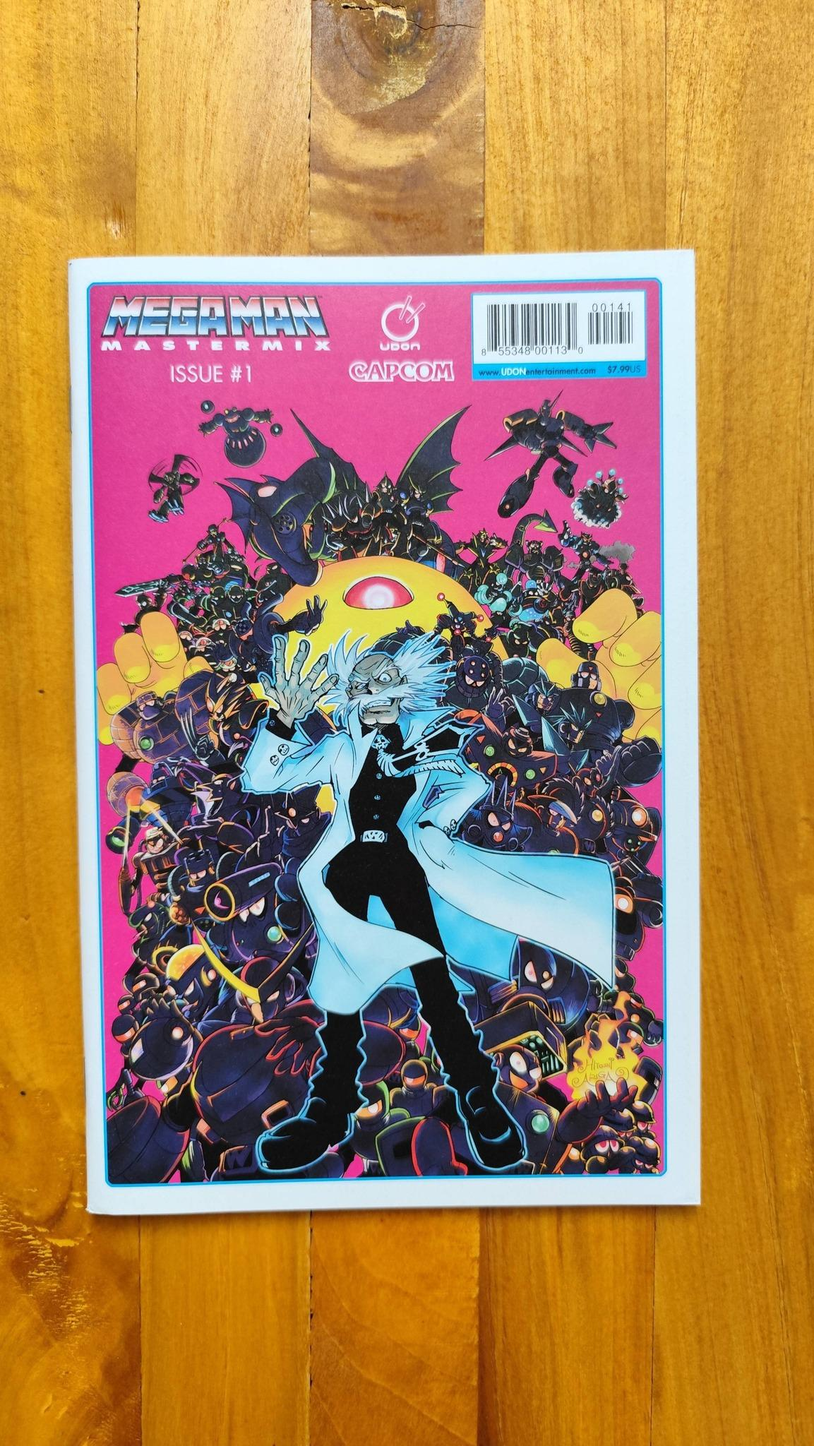comic: (70, 252, 703, 1213)
